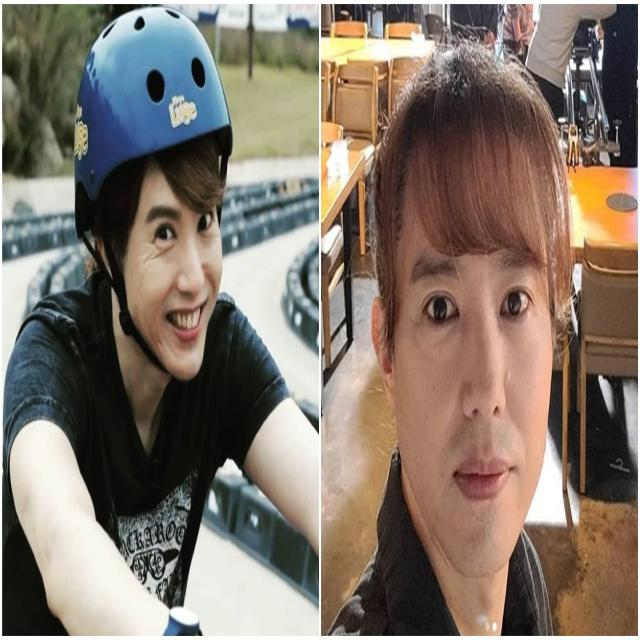Helmet: (75, 1, 233, 383)
Non_Helmet: (330, 43, 572, 636)
